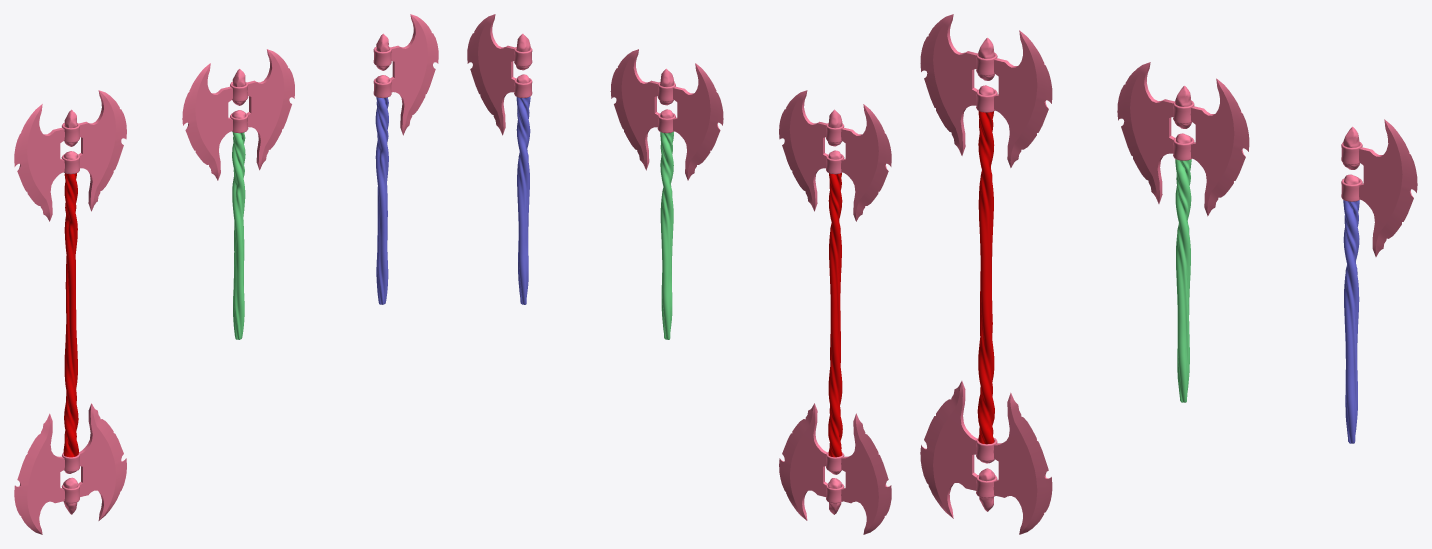
The picture shows the model from 3 angles, left to right: view 1: azimuth 30°, elevation 25°; view 2: azimuth 150°, elevation 25°; view 3: azimuth 330°, elevation 25°; orthographic projection. The views are drawn at different scales.
Parts seen in each view (by area): view 1: uzunbalta, uzunbalta002, uzunbalta001, coklubalta, ciftbalta; view 2: uzunbalta, uzunbalta002, uzunbalta001, ciftbalta, coklubalta; view 3: uzunbalta, uzunbalta002, uzunbalta001, ciftbalta, coklubalta.
Boxes of the visible parts, x1=… form: uzunbalta: x1=14, y1=90, x2=126, y2=534; uzunbalta002: x1=182, y1=49, x2=294, y2=180; uzunbalta001: x1=373, y1=14, x2=438, y2=135; coklubalta: x1=375, y1=97, x2=388, y2=304; ciftbalta: x1=232, y1=132, x2=245, y2=339; uzunbalta: x1=779, y1=90, x2=891, y2=534; uzunbalta002: x1=610, y1=49, x2=723, y2=180; uzunbalta001: x1=467, y1=14, x2=532, y2=135; ciftbalta: x1=660, y1=131, x2=673, y2=339; coklubalta: x1=516, y1=97, x2=530, y2=304; uzunbalta: x1=920, y1=14, x2=1052, y2=534; uzunbalta002: x1=1117, y1=62, x2=1249, y2=216; uzunbalta001: x1=1341, y1=119, x2=1417, y2=256; ciftbalta: x1=1175, y1=159, x2=1191, y2=402; coklubalta: x1=1343, y1=200, x2=1359, y2=443.
Bounding box in the file's own units: 218 × 211 × 8.17.
